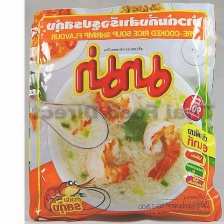snack: (25, 0, 224, 223)
